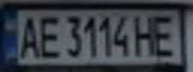1: (96, 12, 115, 57), (81, 12, 100, 57)
3: (60, 12, 84, 59)
4: (112, 11, 133, 57)
A: (15, 12, 42, 60)
E: (148, 11, 181, 57), (33, 12, 63, 60)
H: (130, 11, 160, 57)
